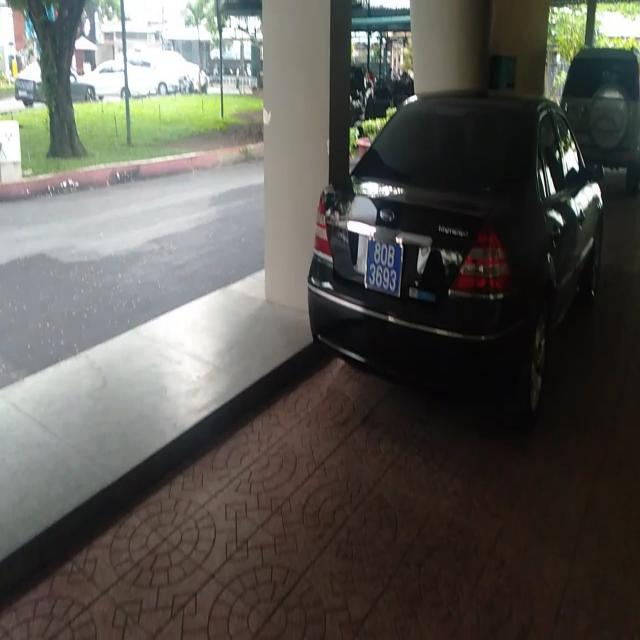bien_xanh: (364, 234, 408, 300)
